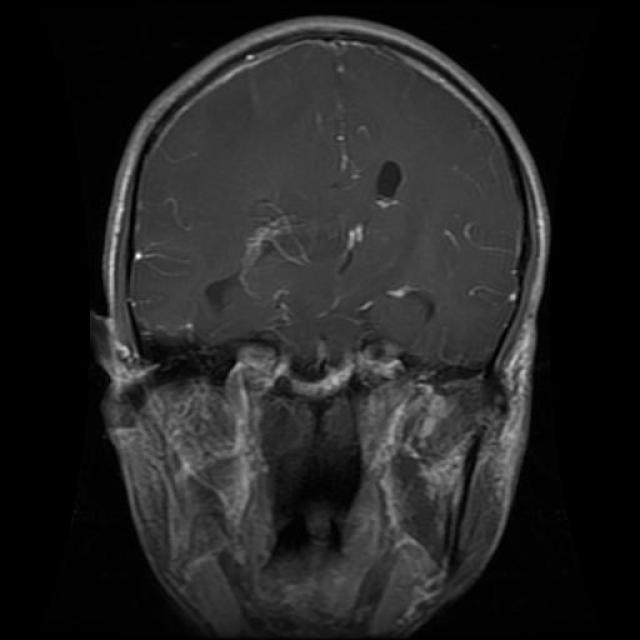glioma: (371, 155, 414, 216)
